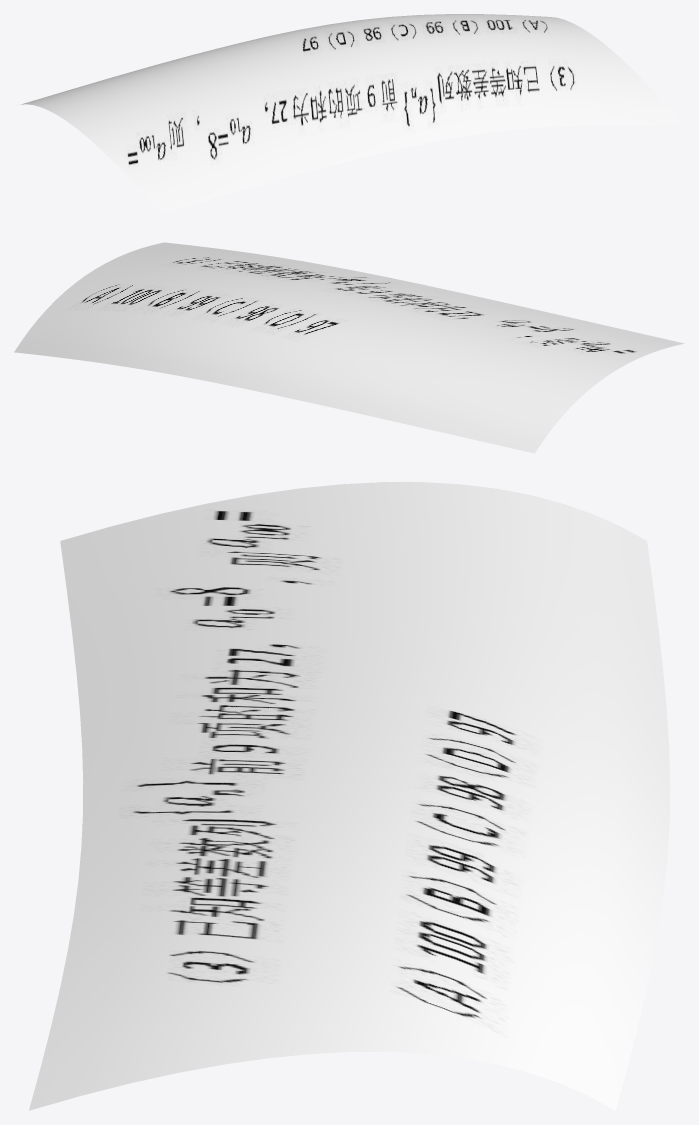
The model's file is math3.fbx.
3 views of the same model, one above another, from view 1: azimuth 30°, elevation 25°; view 2: azimuth 150°, elevation 25°; view 3: azimuth 270°, elevation 25° (orthographic). The views are drawn at different scales.
Visible parts, largest first — view 1: 曲面片; view 2: 曲面片; view 3: 曲面片.
Part boxes in pixels (x1,y1,x2,y2): 曲面片: [21, 14, 684, 213]; 曲面片: [14, 242, 684, 453]; 曲面片: [29, 482, 669, 1110].
Size of the model in its own units: 418 by 50.32 by 223.
Materials: 1 (1 with a texture image).
